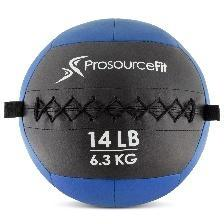Sports-Ball: (17, 12, 214, 212)
